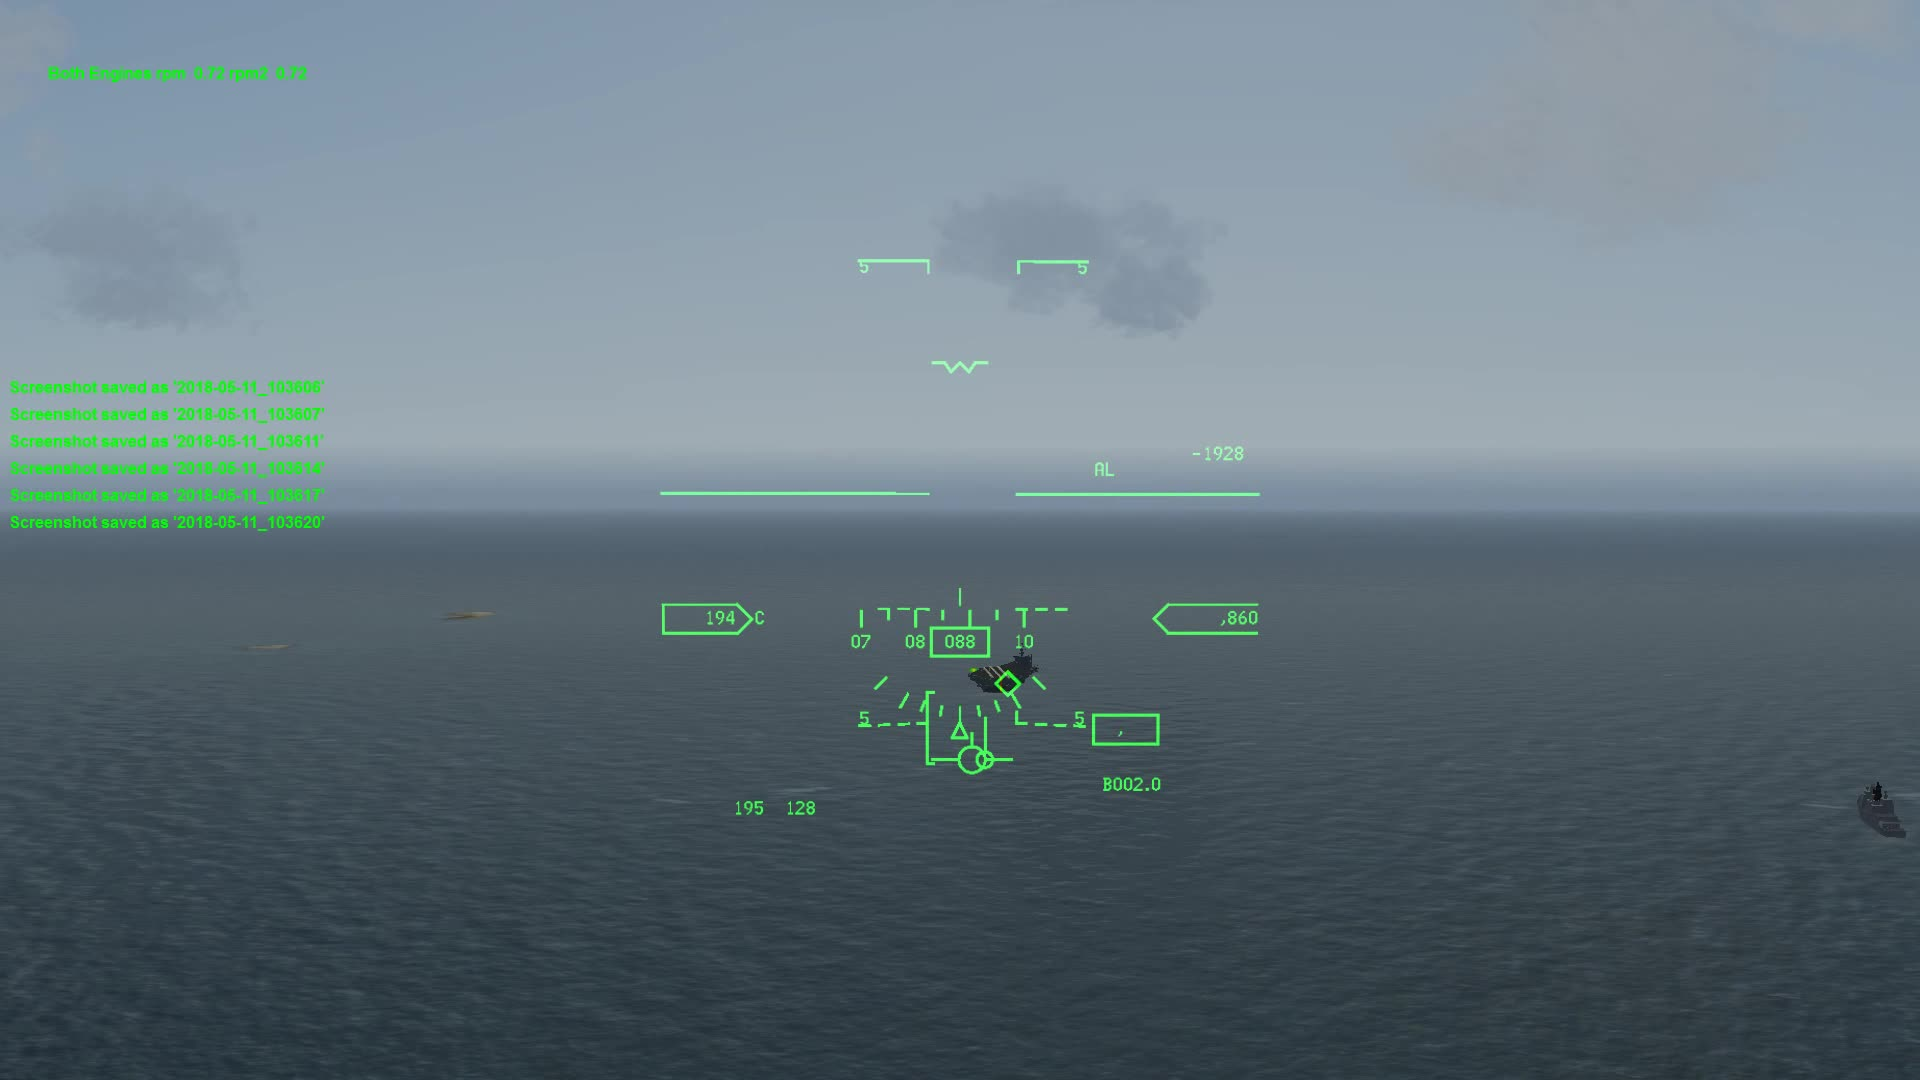speed vector: (935, 741, 1010, 778)
